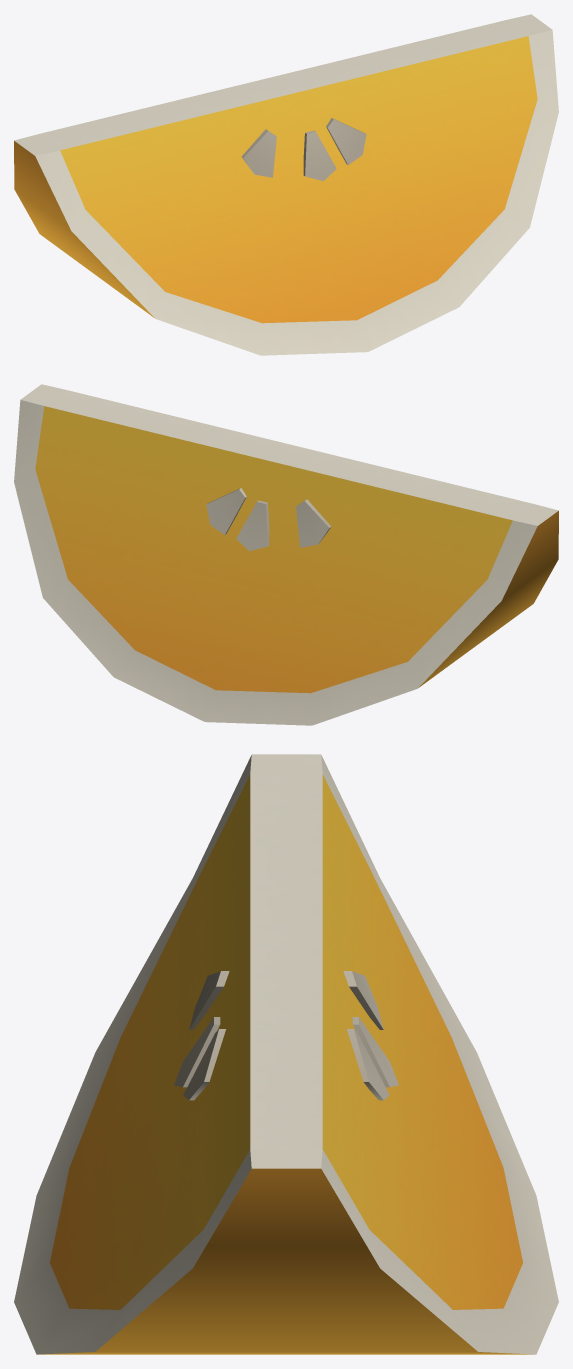
File: orange_slice.fbx
The picture shows the model from 3 angles, top to bottom: view 1: azimuth 30°, elevation 25°; view 2: azimuth 150°, elevation 25°; view 3: azimuth 270°, elevation 25°; orthographic projection. The views are drawn at different scales.
Parts seen in each view (by area): view 1: orange_slice; view 2: orange_slice; view 3: orange_slice.
Part boxes in pixels (x1,y1,x2,y2): orange_slice: (14, 14, 558, 355); orange_slice: (14, 384, 558, 725); orange_slice: (14, 754, 558, 1354).
Size of the model in its own units: 17.01 by 6.49 by 9.46.
